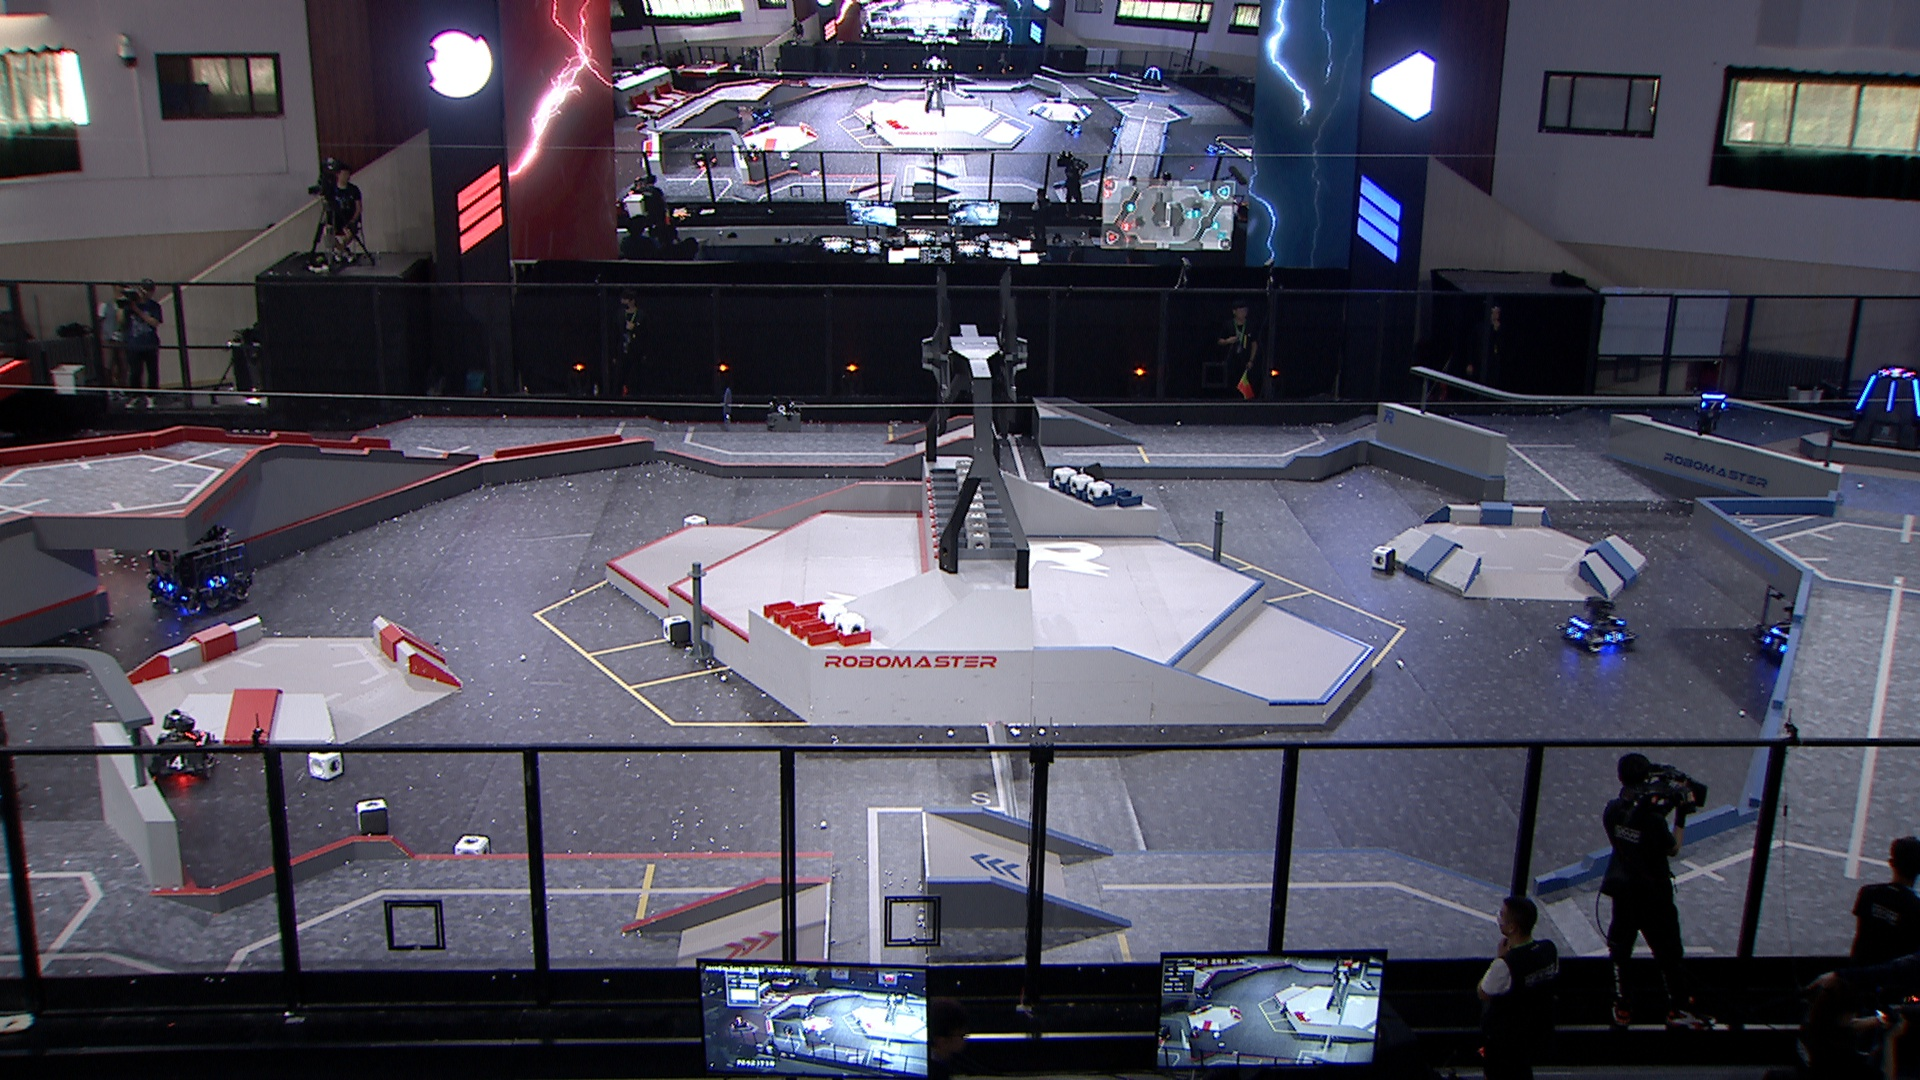armor: (1851, 371, 1878, 411), (1883, 376, 1899, 413), (1764, 633, 1789, 655), (164, 752, 189, 773), (206, 570, 229, 589), (1909, 376, 1920, 419), (1605, 609, 1629, 626), (1700, 398, 1727, 411), (1604, 626, 1623, 645), (1563, 622, 1584, 640), (156, 578, 175, 593)
base: (1830, 357, 1920, 456)
car: (140, 524, 262, 616), (1749, 571, 1845, 666), (145, 707, 225, 783), (1556, 595, 1638, 655)
ignore: (690, 136, 717, 167), (746, 102, 773, 125), (1138, 63, 1162, 88), (1880, 367, 1913, 380), (1064, 117, 1084, 136), (744, 144, 760, 164), (731, 1015, 750, 1031)
watcher: (1691, 382, 1730, 436)
